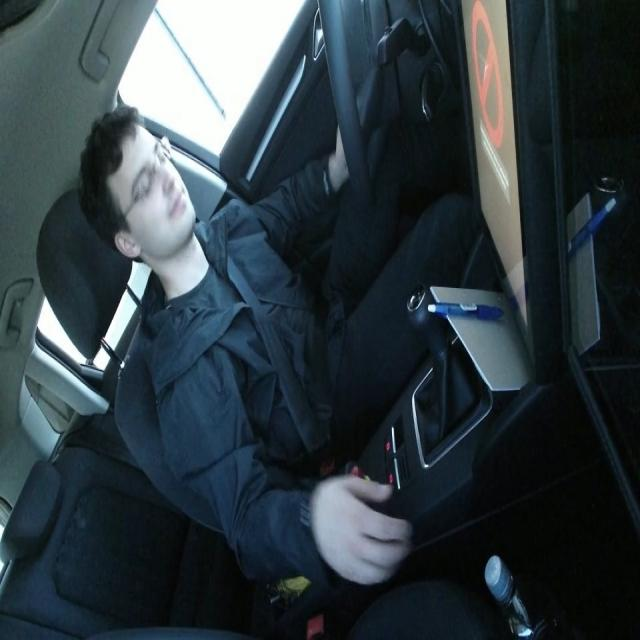pen: (427, 300, 503, 321)
